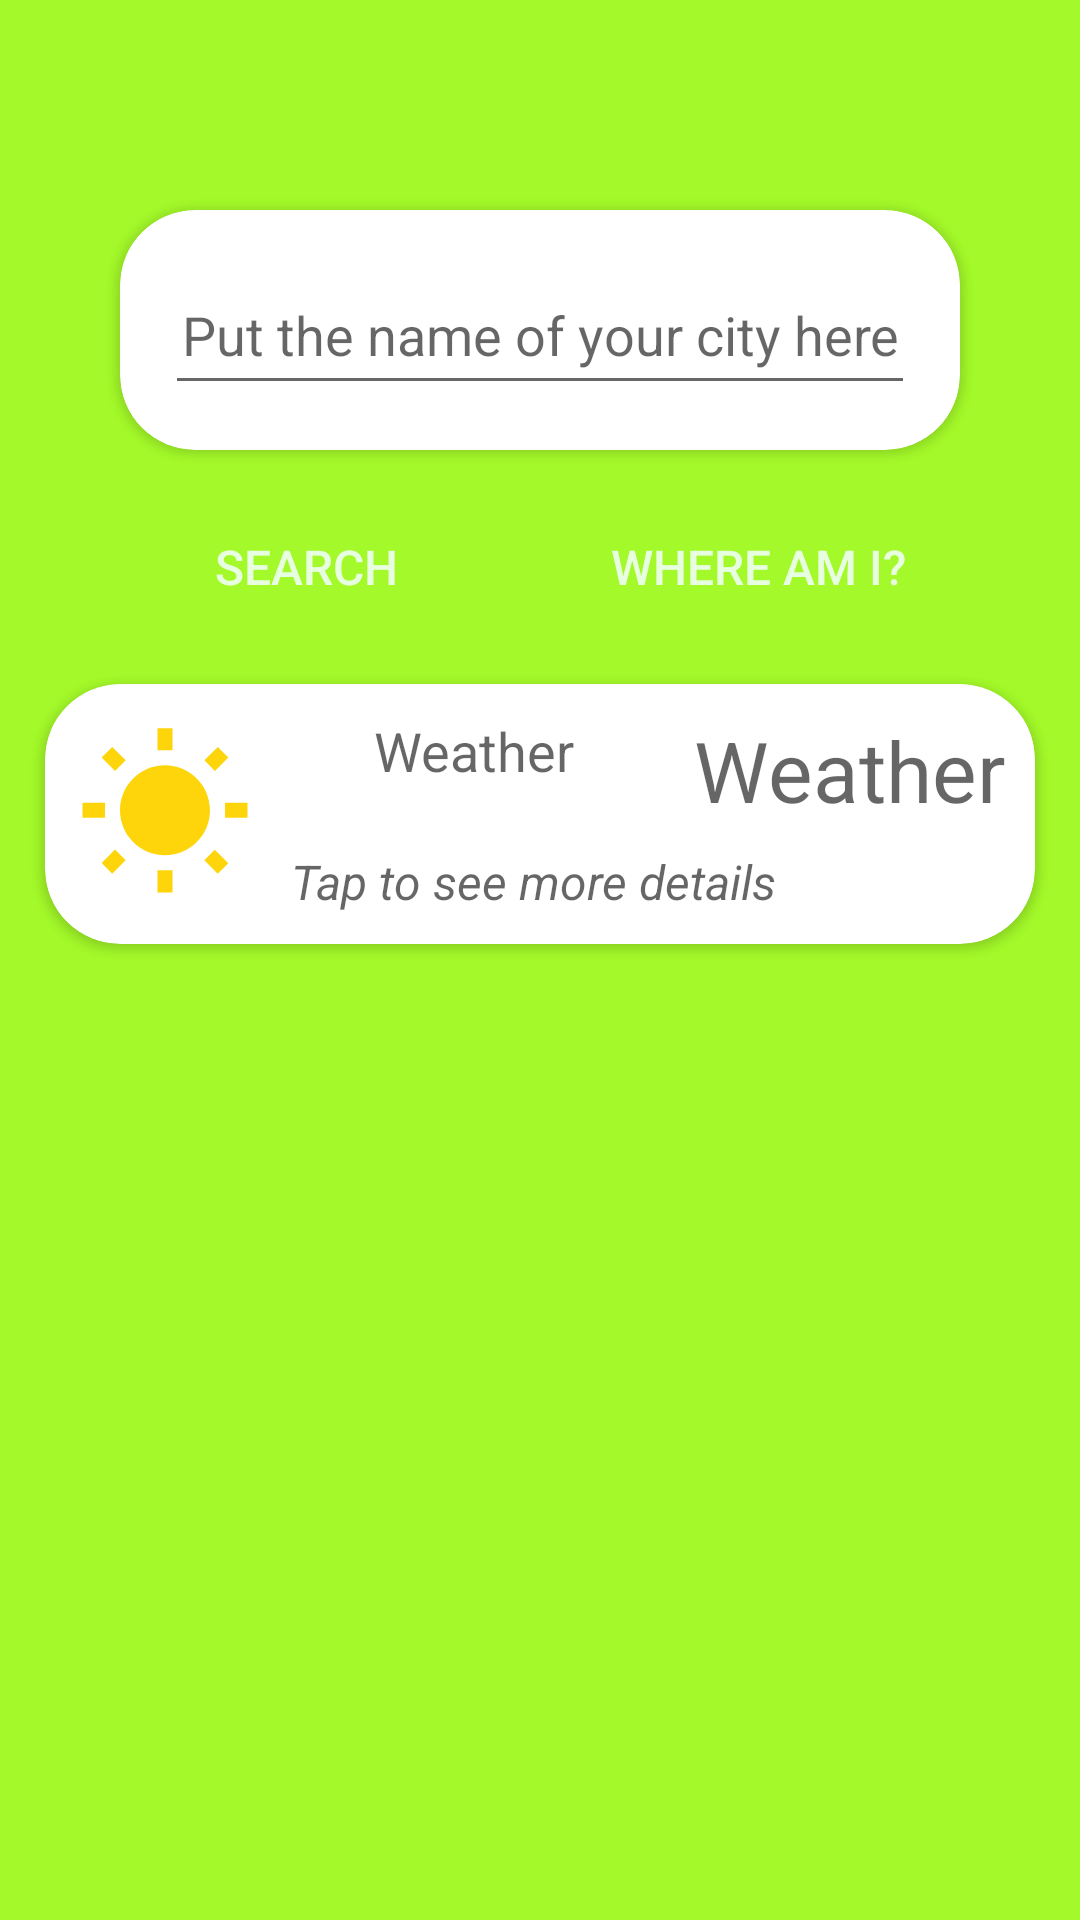

Screen size 1080 x 1920. Icon name, then its center in pixels as point (x, y):
sunny: point (165, 810)
